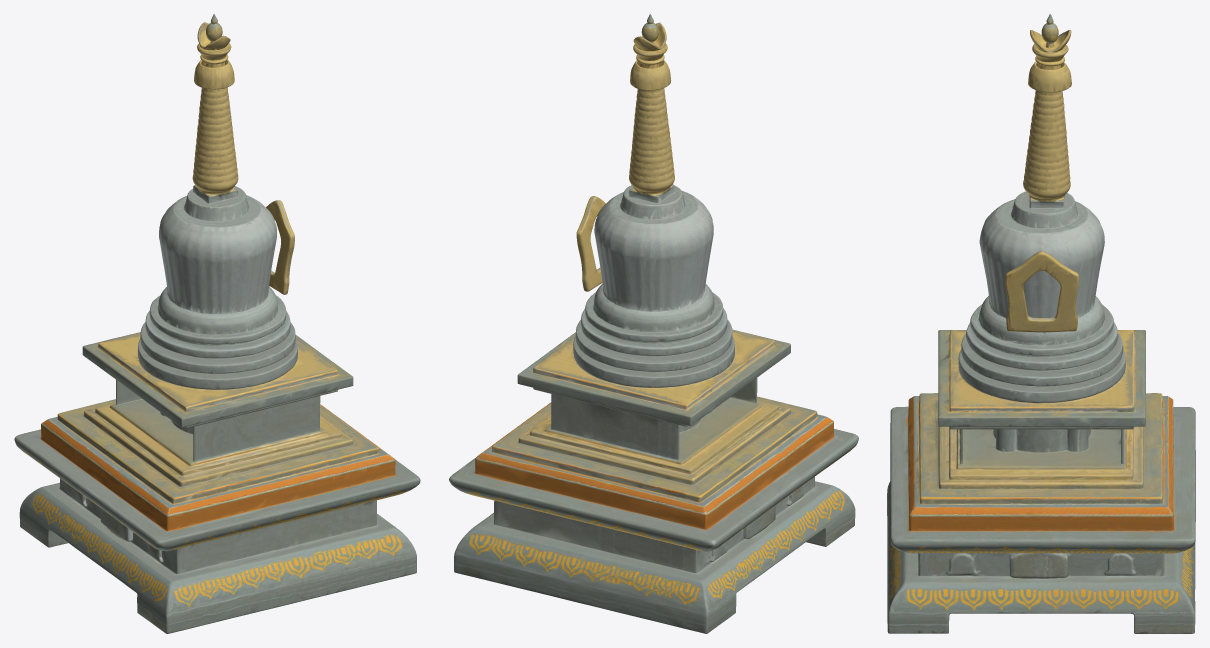
File: crystal pagoda 3d model.glb
3 renders of one model, left to right at view 1: azimuth 30°, elevation 25°; view 2: azimuth 150°, elevation 25°; view 3: azimuth 270°, elevation 25°, orthographic. The views are drawn at different scales.
Parts seen in each view (by area): view 1: tripo_node_7c096f42-4ad9-4d33-9bc3-e9150839a914; view 2: tripo_node_7c096f42-4ad9-4d33-9bc3-e9150839a914; view 3: tripo_node_7c096f42-4ad9-4d33-9bc3-e9150839a914.
Boxes of the visible parts, x1,y1,x2,y2 form: tripo_node_7c096f42-4ad9-4d33-9bc3-e9150839a914: (14, 14, 420, 633); tripo_node_7c096f42-4ad9-4d33-9bc3-e9150839a914: (449, 14, 858, 633); tripo_node_7c096f42-4ad9-4d33-9bc3-e9150839a914: (887, 14, 1195, 633).
Size of the model in its own units: 0.5202 by 1 by 0.5034.
1 material, 1 textured.
